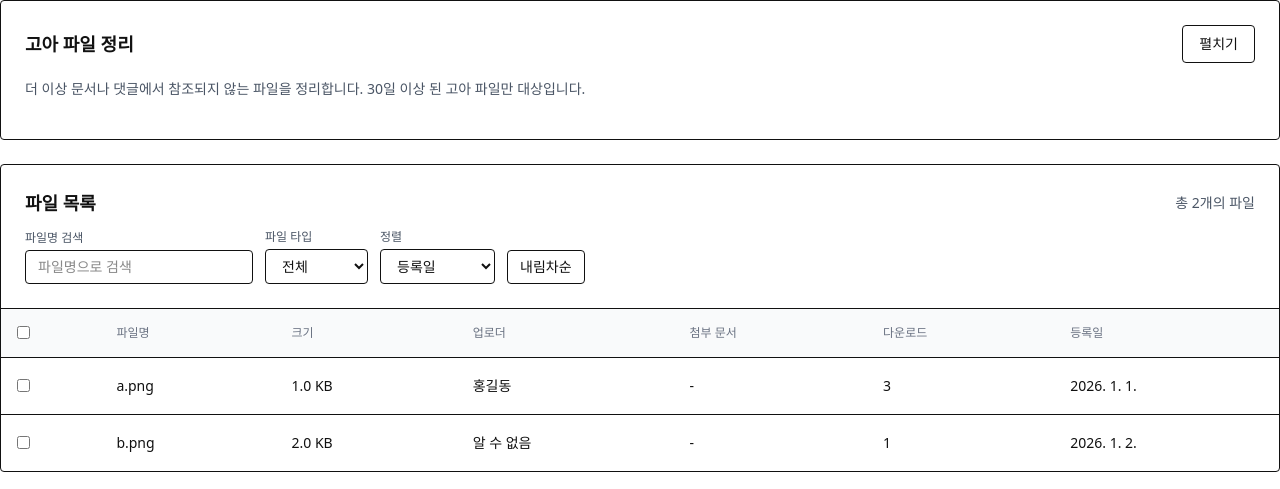
Test: FileManagementClient (SPEC-CONTENT-PARITY-001 M4) › FILE-UI-5: 전체 선택 체크박스는 모든 행을 선택한다
Step 1. Click the checkbox named "전체 선택" → x=24, y=332, box [17,326,30,339]
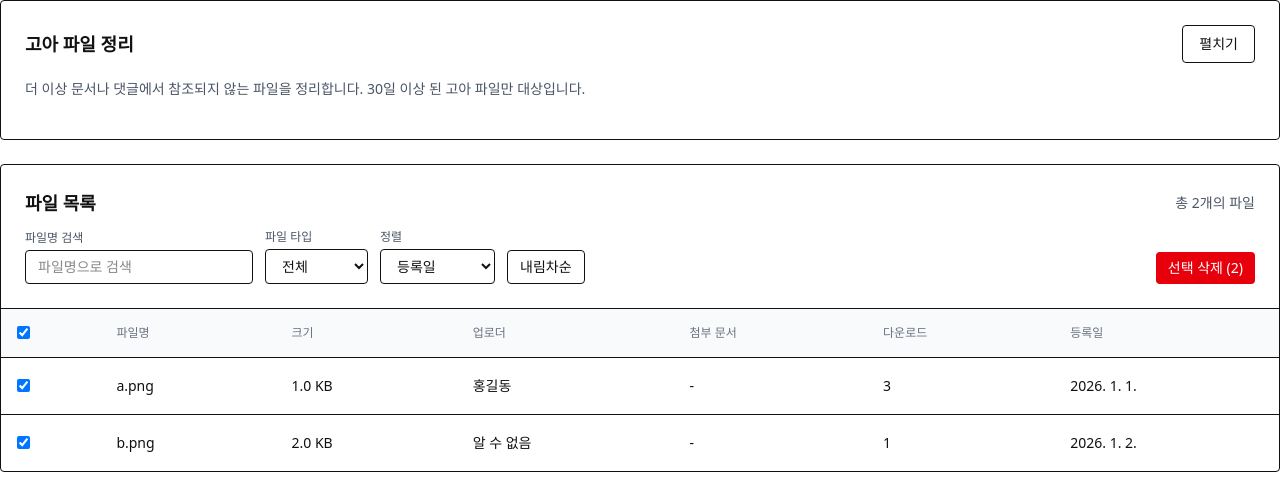
Expected: the checkbox named "파일 1 선택" is checked, [17,379,30,392]
Expected: the checkbox named "파일 2 선택" is checked, [17,436,30,449]
Expected: the button "선택 삭제 (2)" is shown, [1156,252,1255,284]
